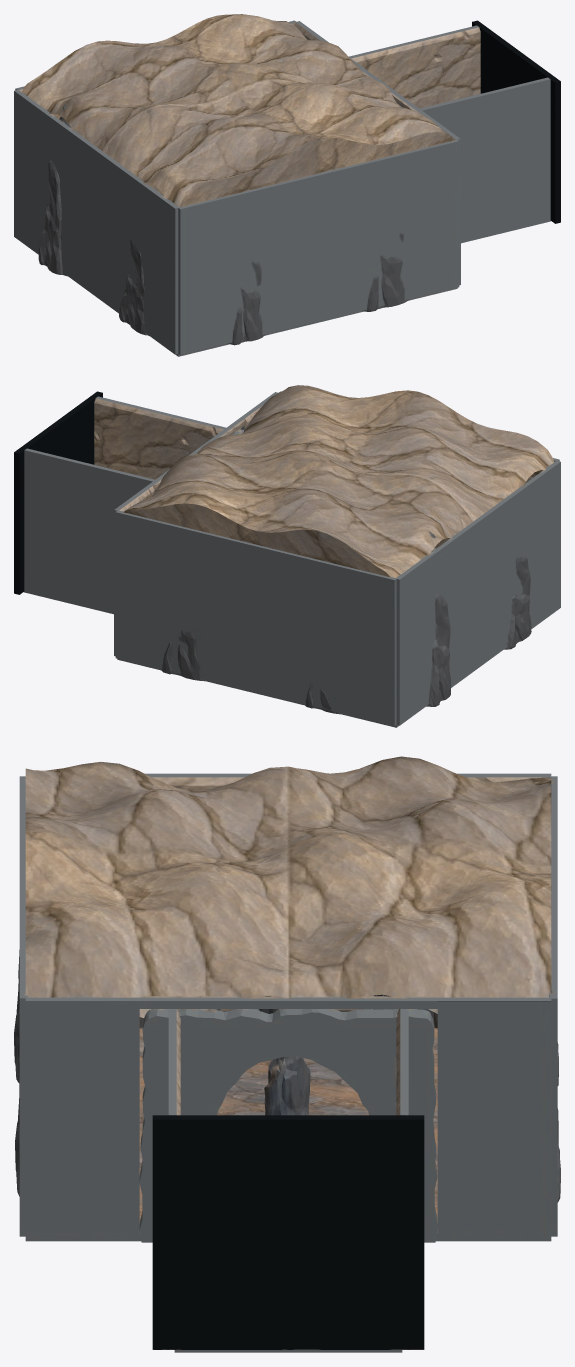
The model's file is room.glb.
The picture shows the model from 3 angles, top to bottom: view 1: azimuth 30°, elevation 25°; view 2: azimuth 150°, elevation 25°; view 3: azimuth 270°, elevation 25°; orthographic projection. The views are drawn at different scales.
Visible parts, largest first — view 1: ROOM-8; view 2: ROOM-8; view 3: ROOM-8.
Part boxes in pixels (x1=…): ROOM-8: x1=14, y1=14, x2=560, y2=356; ROOM-8: x1=14, y1=385, x2=560, y2=727; ROOM-8: x1=14, y1=756, x2=560, y2=1352.
Size of the model in its own units: 9.28 by 3.78 by 6.24.
Materials: 1 (1 with a texture image).
